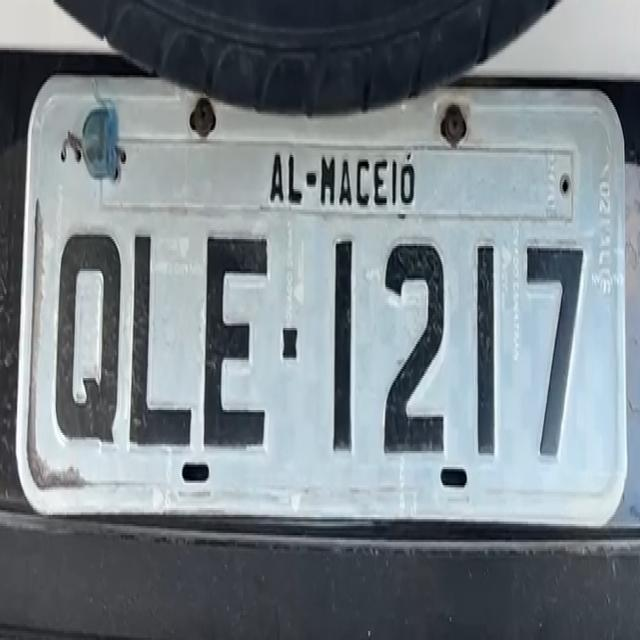Placa_mercosul_carro: (25, 107, 619, 498)
